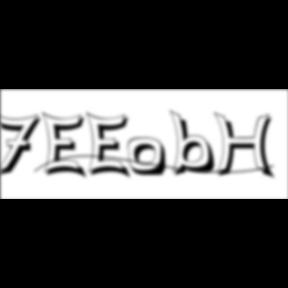7: (0, 111, 48, 179)
E: (86, 110, 136, 182), (42, 110, 90, 182)
H: (213, 112, 279, 182)
b: (170, 109, 222, 179)
o: (127, 137, 169, 179)
